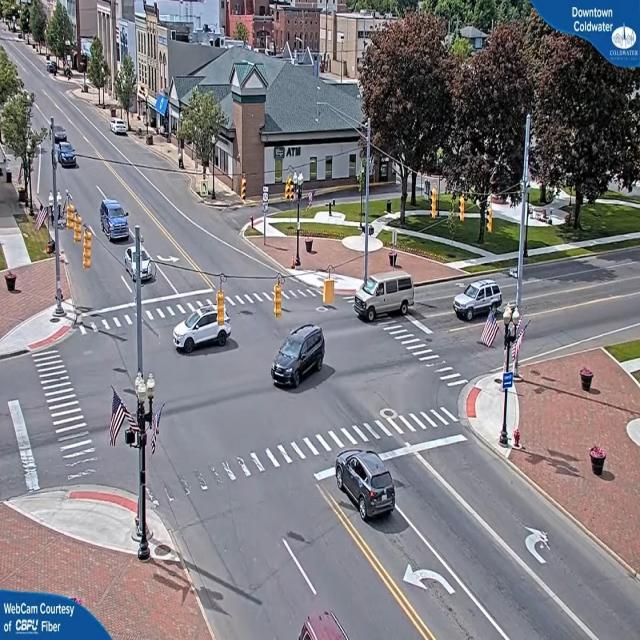car: (334, 452, 398, 523), (271, 324, 328, 389), (356, 269, 416, 324), (172, 299, 230, 354), (453, 280, 505, 322), (101, 202, 131, 242), (129, 244, 155, 283), (54, 135, 77, 166), (112, 120, 130, 136)
